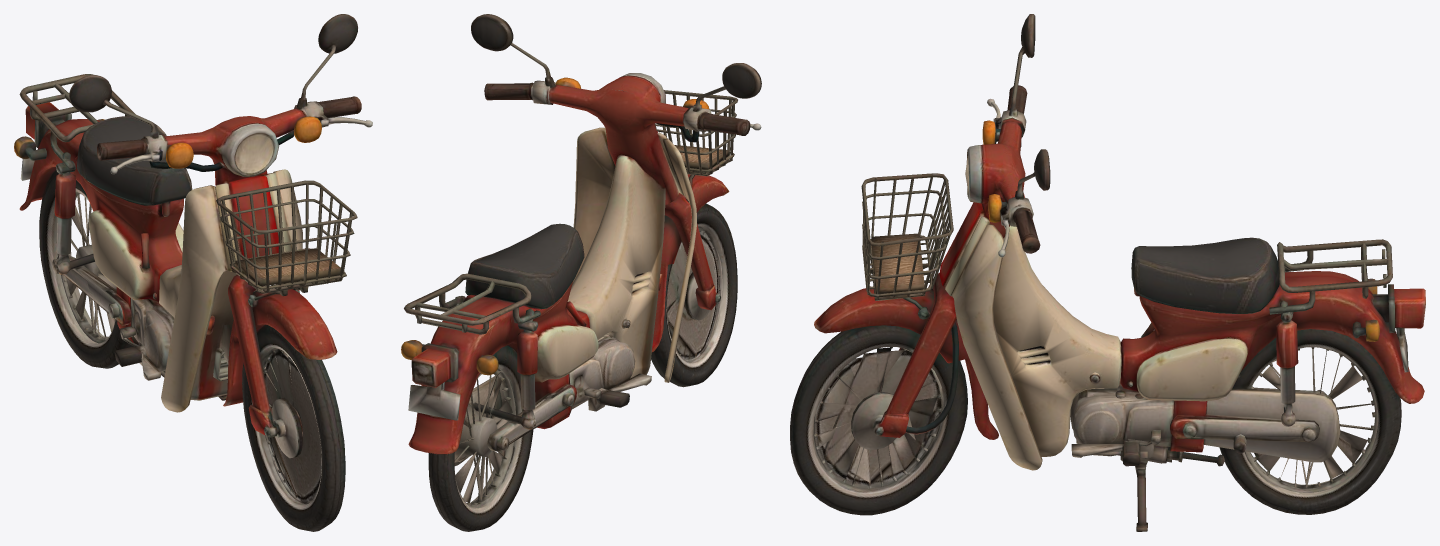
File: scooter.glb
The picture shows the model from 3 angles, left to right: view 1: azimuth 30°, elevation 25°; view 2: azimuth 150°, elevation 25°; view 3: azimuth 270°, elevation 25°; orthographic projection. The views are drawn at different scales.
Visible parts, largest first — view 1: tripo_node_0038658b-2e25-4b36-bb93-08f64c42e859; view 2: tripo_node_0038658b-2e25-4b36-bb93-08f64c42e859; view 3: tripo_node_0038658b-2e25-4b36-bb93-08f64c42e859.
Boxes of the visible parts, <box> form: tripo_node_0038658b-2e25-4b36-bb93-08f64c42e859: <box>14,14,372,531</box>; tripo_node_0038658b-2e25-4b36-bb93-08f64c42e859: <box>401,14,761,531</box>; tripo_node_0038658b-2e25-4b36-bb93-08f64c42e859: <box>790,14,1425,531</box>.
Size of the model in its own units: 0.5474 by 0.7505 by 0.9995.
Materials: 1 (1 with a texture image).
